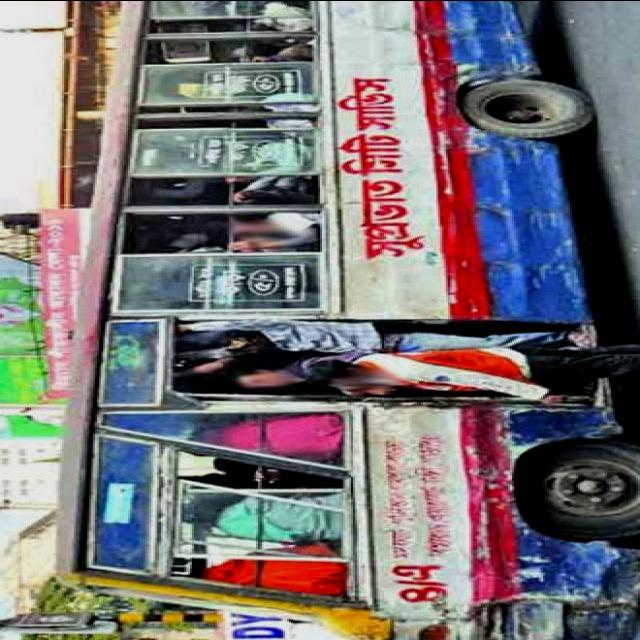bus: (53, 2, 639, 640)
